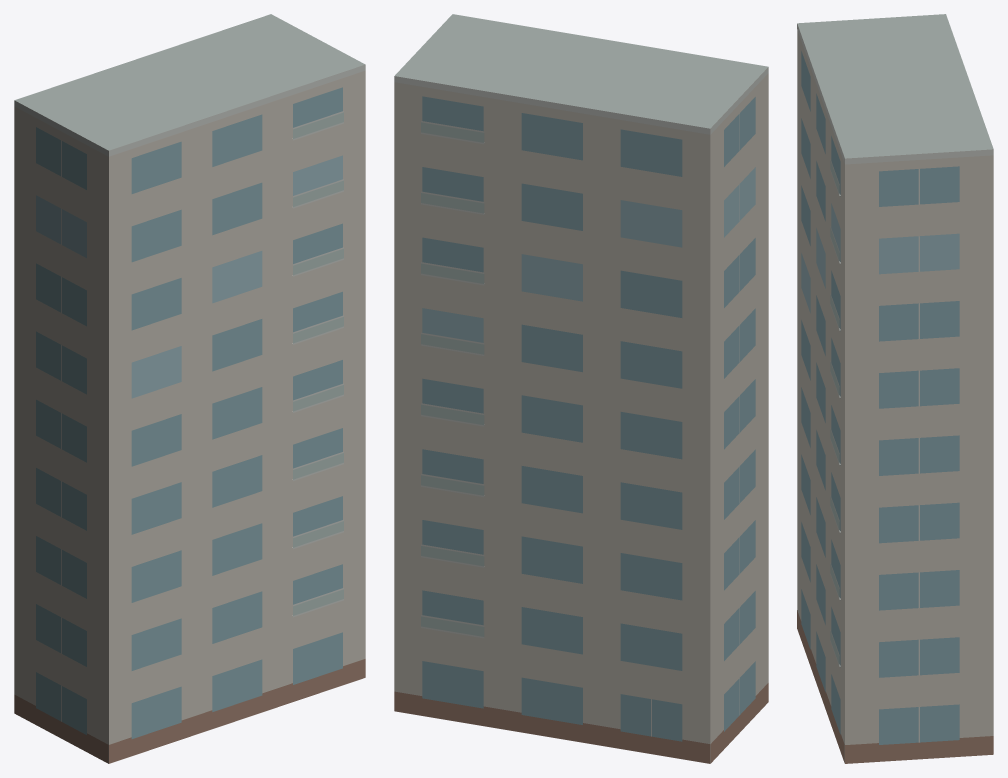
Rendered from survey-upis-33000185.glb.
3 views of the same model, side by side, from view 1: azimuth 30°, elevation 25°; view 2: azimuth 150°, elevation 25°; view 3: azimuth 270°, elevation 25° (orthographic). The views are drawn at different scales.
Visible parts, largest first — view 1: survey-upis-33000185.tmp; view 2: survey-upis-33000185.tmp; view 3: survey-upis-33000185.tmp.
Boxes of the visible parts, <box> form: survey-upis-33000185.tmp: <box>14,14,365,763</box>; survey-upis-33000185.tmp: <box>394,14,768,763</box>; survey-upis-33000185.tmp: <box>797,14,993,763</box>.
Bounding box in the file's own units: 12.76 × 24.9 × 7.34.
